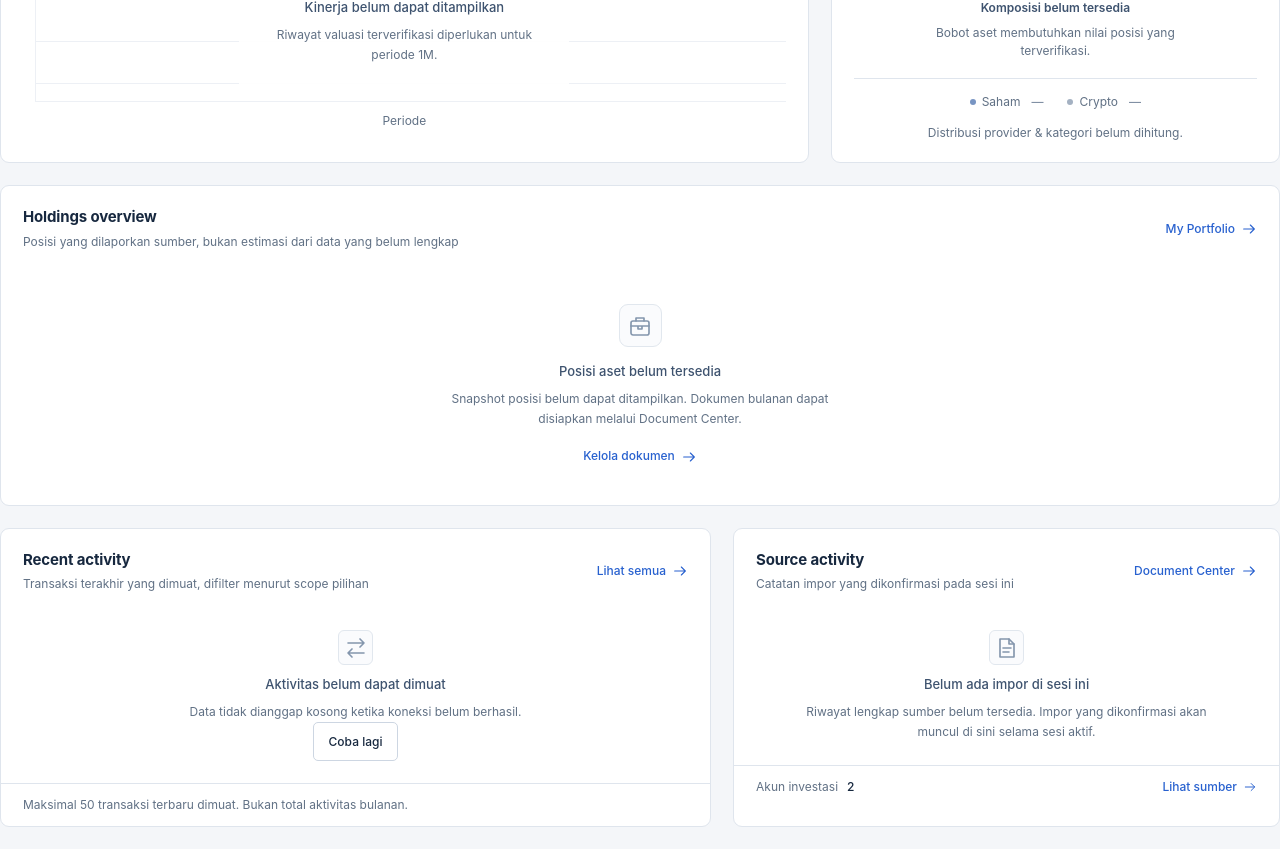
Test: distinguishes a failed transaction request from an empty ledger and supports retry
(page scrolled)
Expected: the heading "Aktivitas belum dapat dimuat" is shown, [265,676,446,695]
Expected: the text "Belum ada aktivitas yang dapat ditampilkan" is not shown
Click the button "Coba lagi".
click(356, 742)  # box [313,722,398,761]
(page scrolled)
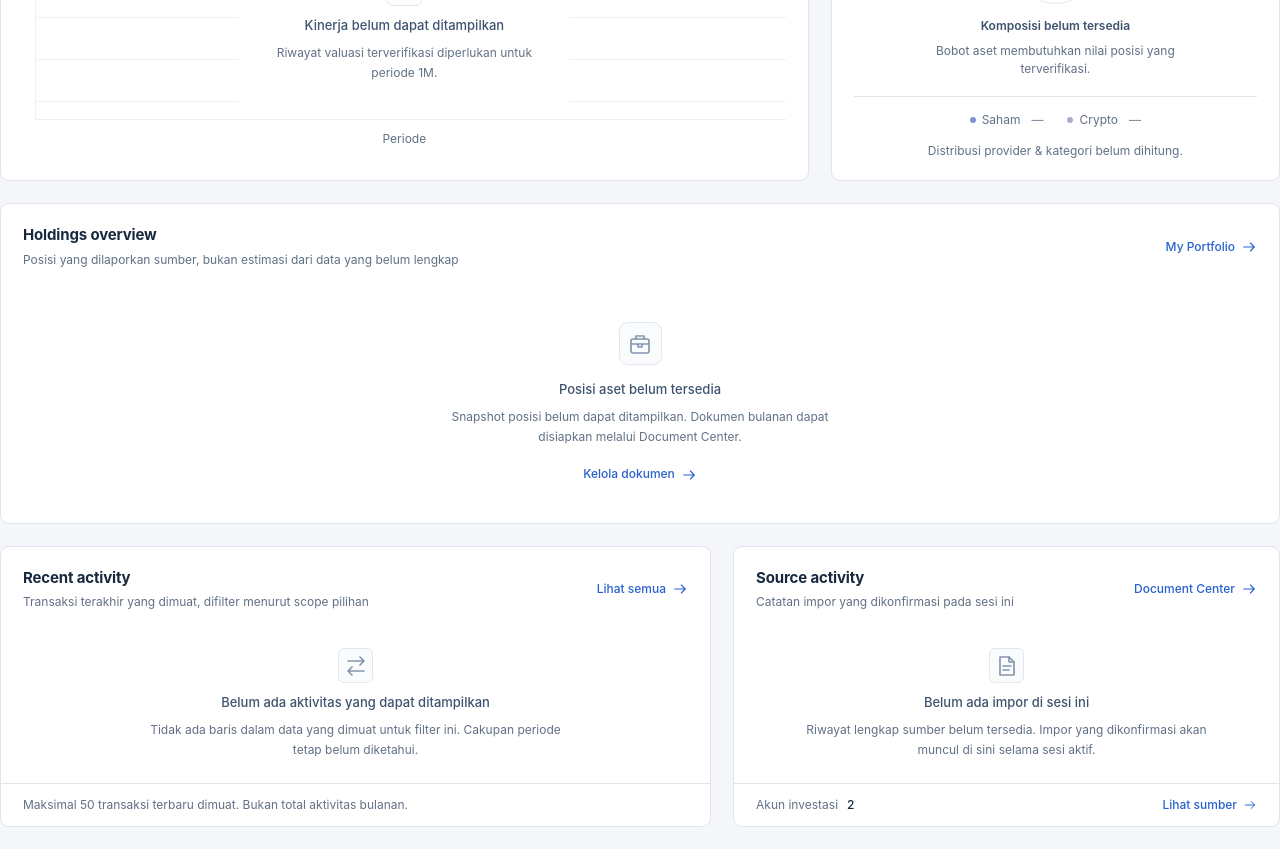
Expected: the heading "Belum ada aktivitas yang dapat ditampilkan" is shown, [221,694,490,713]
